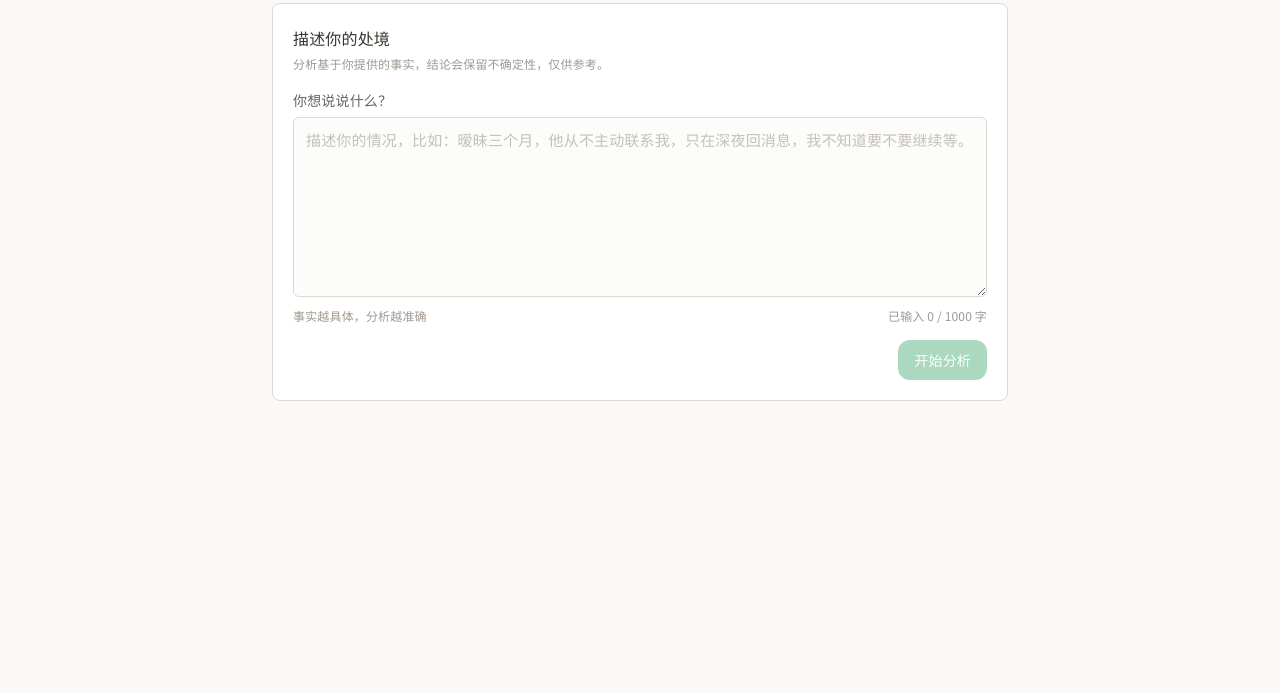
<AnalysisPage /> › 成功后渲染结果卡片，包含分析、证据、风险、建议、置信度
Type "暧昧三个月，他从不主动联系我，只在深夜回消息，我不知道要不要继续等。" into the text box named "情况描述".
click(640, 206); type("暧昧三个月，他从不主动联系我，只在深夜回消息，我不知道要不要继续等。")  # box [293,116,987,296]
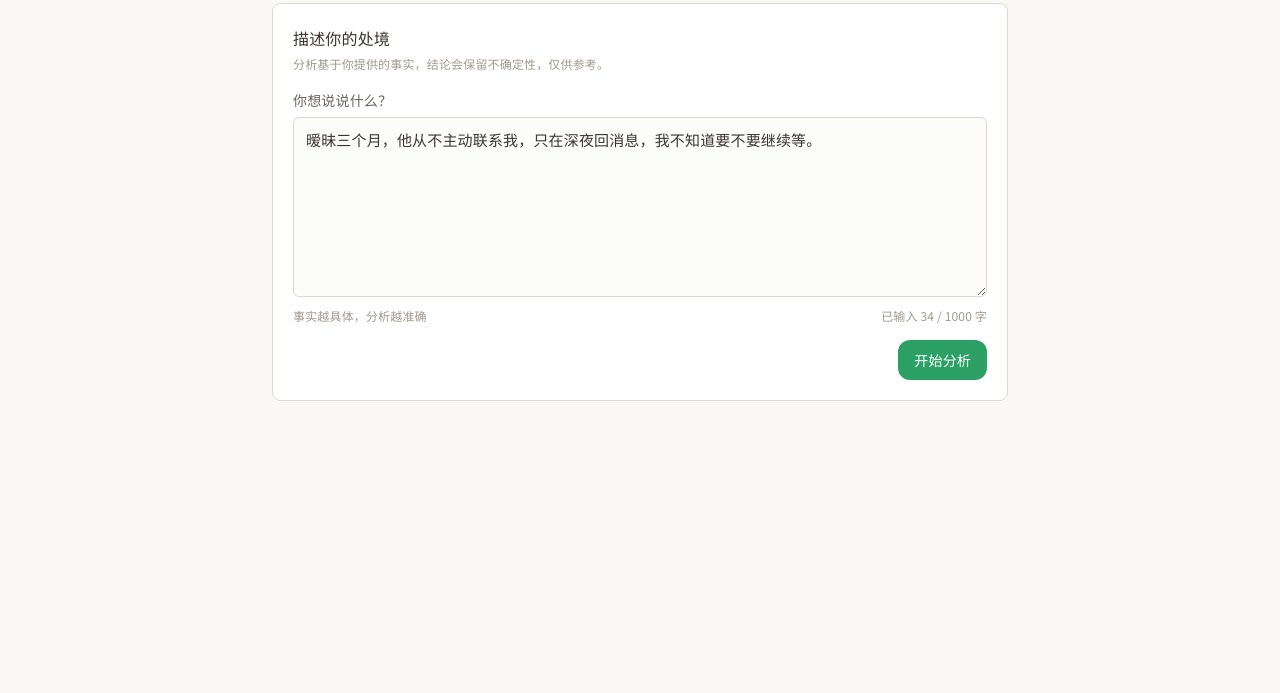
Click the button "开始分析".
click(943, 360)  # box [898,340,987,380]
(page scrolled)
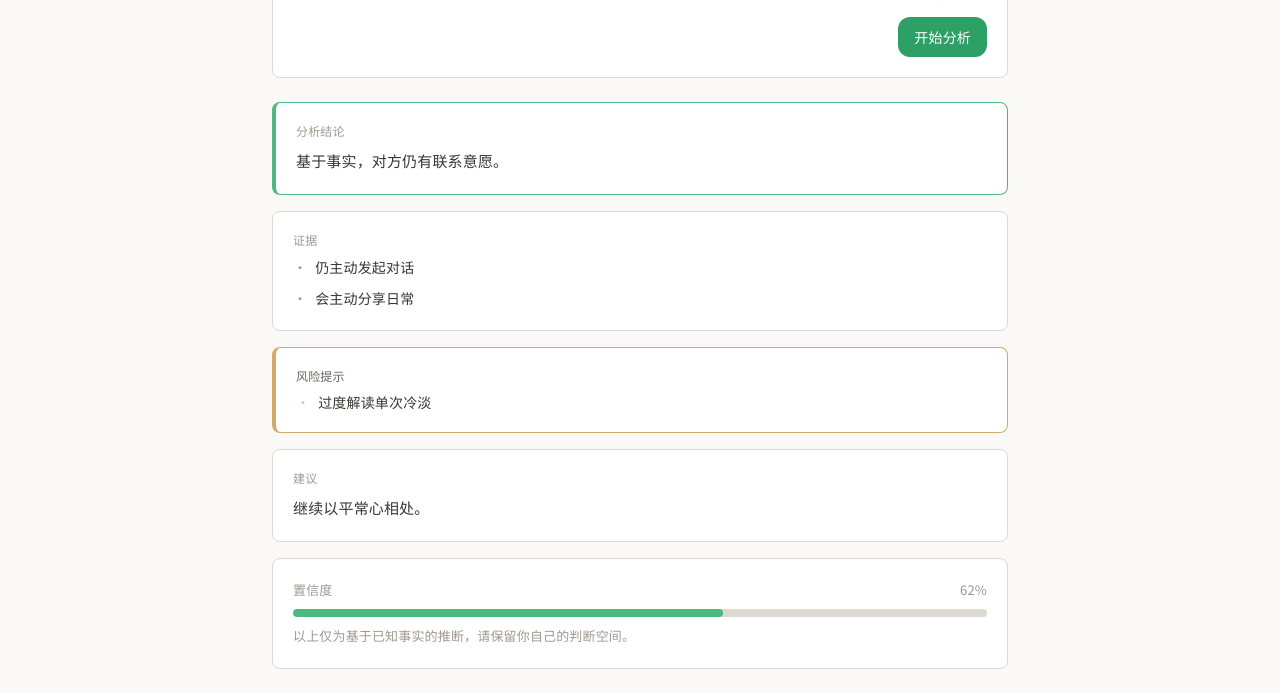
Now the element with test id "analysis-result" is shown, box [272,102,1008,669]
Now the text "基于事实，对方仍有联系意愿。" is shown, box [296,150,508,171]
Now the text "仍主动发起对话" is shown, box [315,256,414,279]
